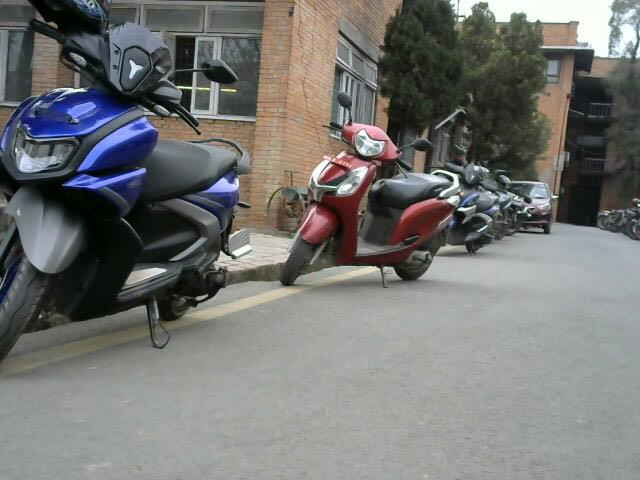Car: (516, 181, 574, 238)
Motorcycle: (0, 0, 240, 359), (291, 98, 460, 324), (461, 157, 536, 279)
Road: (57, 256, 640, 480)
Tree: (390, 0, 590, 164)
